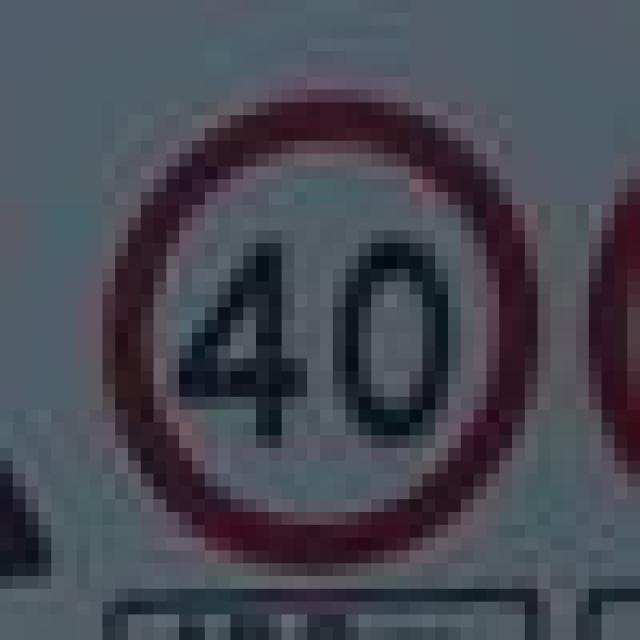falling_rocks: (77, 64, 525, 550)
